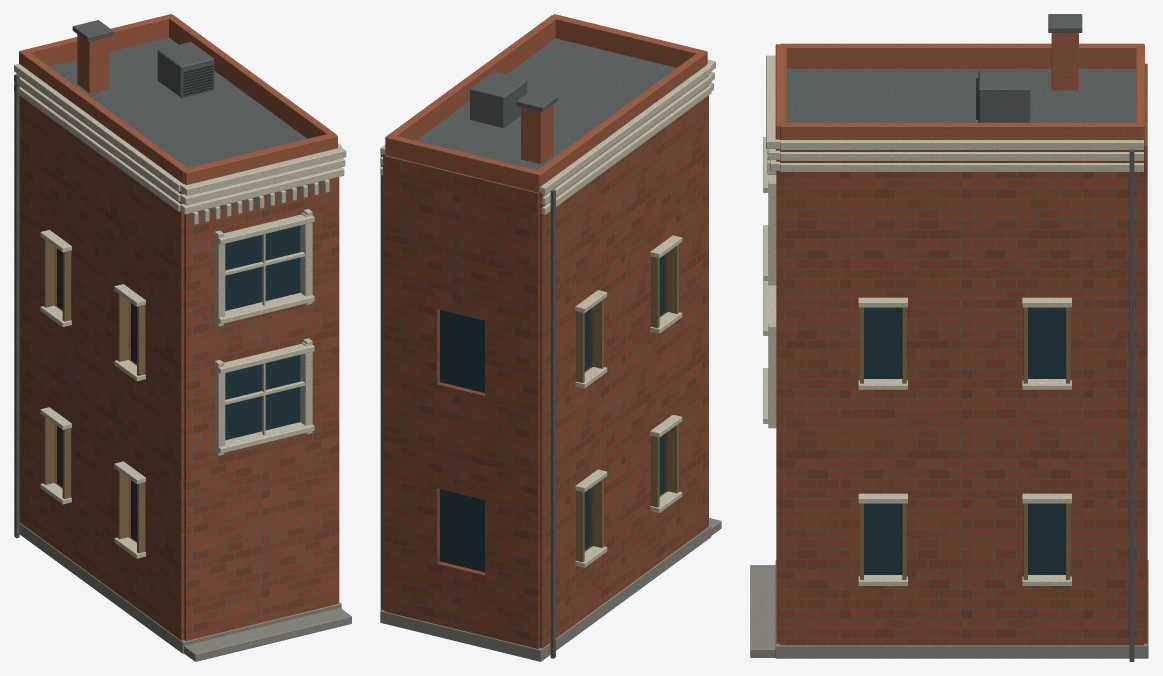
File: VICT23_lod1.glb
The picture shows the model from 3 angles, left to right: view 1: azimuth 30°, elevation 25°; view 2: azimuth 150°, elevation 25°; view 3: azimuth 270°, elevation 25°; orthographic projection. The views are drawn at different scales.
Visible parts, largest first — view 1: VICT23_LOD1; view 2: VICT23_LOD1; view 3: VICT23_LOD1.
Boxes of the visible parts, bbox=[...] form: VICT23_LOD1: bbox=[14, 14, 351, 661]; VICT23_LOD1: bbox=[380, 14, 721, 661]; VICT23_LOD1: bbox=[750, 14, 1148, 661].
Bounding box in the file's own units: 3.71 × 10.45 × 6.57.
Materials: 9 (7 with a texture image).
